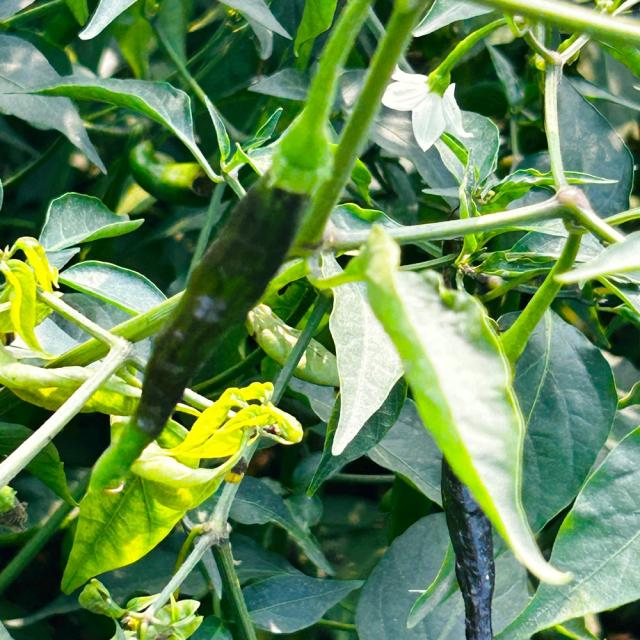Chilli_Leaf_Curl: (1, 0, 638, 638), (316, 222, 577, 587), (59, 379, 304, 596), (379, 62, 474, 152)
